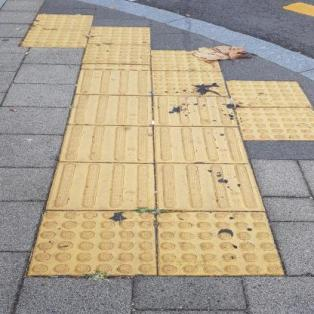Podoctatil: (10, 9, 314, 283)
